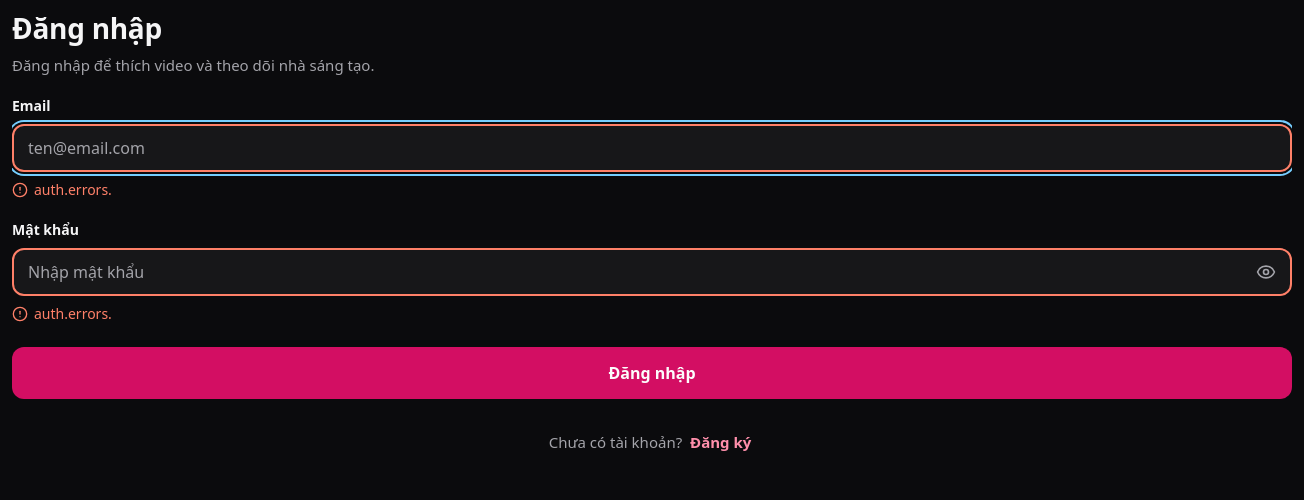
Test: AuthForm › vi: INVALID_CREDENTIALS is an alert with a title and a body
Type "minhanh@gmail.com" into the field labelled "Email".
click(652, 148); type("minhanh@gmail.com")  # box 14,126 -> 1290,170
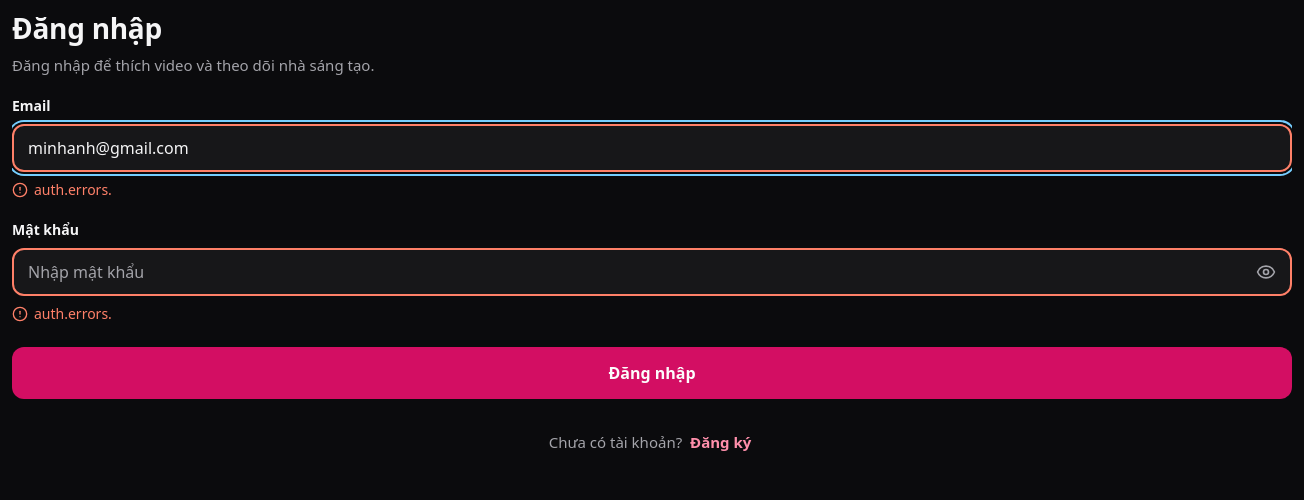
Type "12345678" into the password field labelled "Mật khẩu".
click(629, 272); type("12345678")  # box 14,250 -> 1244,294
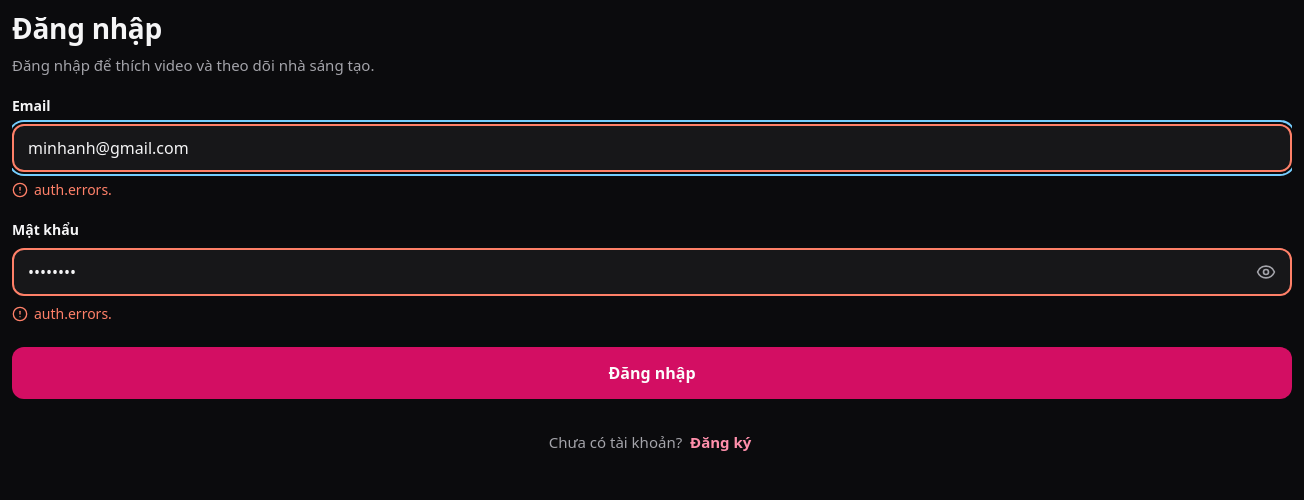
Click the button "Đăng nhập".
click(652, 373)  # box 12,347 -> 1292,399
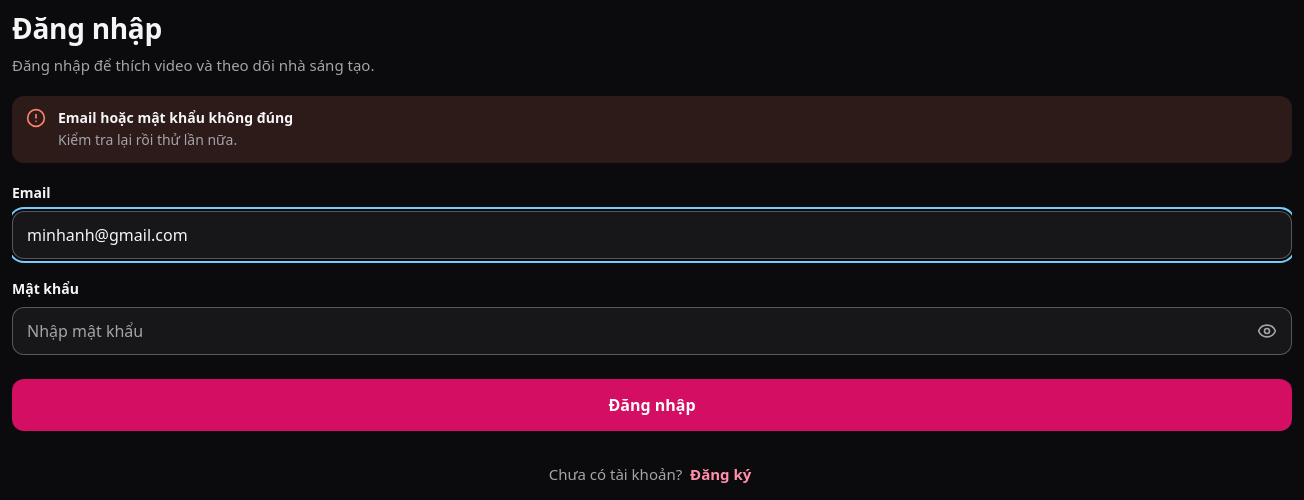
Expected: the icon next to "Email hoặc mật khẩu không đúng" is shown, 26,108 -> 46,128
Expected: the message shows "Email hoặc mật khẩu không đúng", 58,108 -> 293,127
Expected: the message shows "Kiểm tra lại rồi thử lần nữa.", 58,130 -> 237,149
